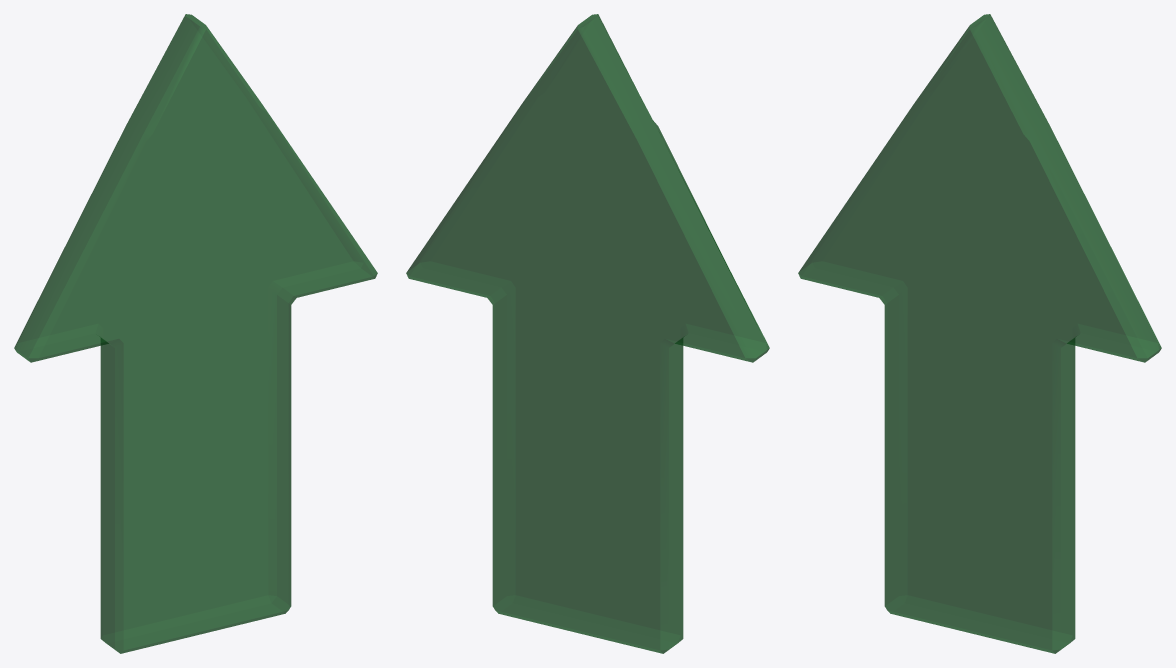
Rendered from ui_start_arrow_001.FBX.
3 renders of one model, left to right at view 1: azimuth 30°, elevation 25°; view 2: azimuth 150°, elevation 25°; view 3: azimuth 330°, elevation 25°, orthographic.
Visible parts, largest first — view 1: Box002; view 2: Box002; view 3: Box002.
Part boxes in pixels (x1,y1,x2,y2): Box002: [14, 14, 377, 653]; Box002: [406, 14, 769, 653]; Box002: [798, 14, 1161, 653].
Size of the model in its own units: 0.4405 by 0.732 by 0.045.
